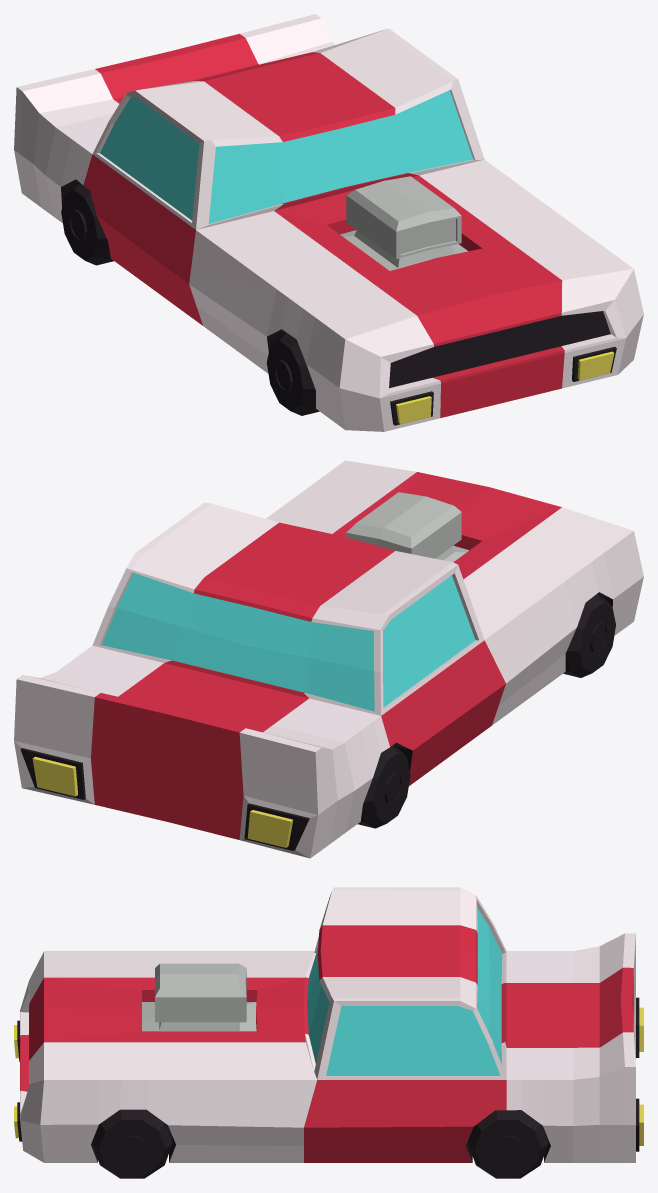
The model's file is race-car.glb.
3 renders of one model, top to bottom at view 1: azimuth 30°, elevation 25°; view 2: azimuth 150°, elevation 25°; view 3: azimuth 270°, elevation 25°, orthographic. The views are drawn at different scales.
Parts seen in each view (by area): view 1: Cube_Cube.001, FrontWheels_Cylinder.003, FrontWheels.001_Cylinder.002; view 2: Cube_Cube.001, FrontWheels_Cylinder.003, FrontWheels.001_Cylinder.002; view 3: Cube_Cube.001, FrontWheels_Cylinder.003, FrontWheels.001_Cylinder.002.
Boxes of the visible parts, x1,y1,x2,y2 form: Cube_Cube.001: (14, 14, 643, 431); FrontWheels_Cylinder.003: (266, 332, 319, 415); FrontWheels.001_Cylinder.002: (61, 182, 113, 265); Cube_Cube.001: (14, 460, 643, 858); FrontWheels_Cylinder.003: (563, 594, 615, 677); FrontWheels.001_Cylinder.002: (357, 745, 410, 828); Cube_Cube.001: (14, 887, 643, 1162); FrontWheels_Cylinder.003: (92, 1109, 172, 1178); FrontWheels.001_Cylinder.002: (468, 1110, 548, 1178).
Bounding box in the file's own units: 2.63 × 1.45 × 4.91.
Materials: 1 (1 with a texture image).
